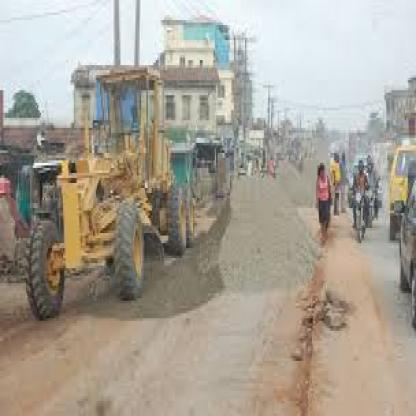car: (14, 55, 202, 327), (341, 147, 377, 253), (379, 132, 416, 228)
